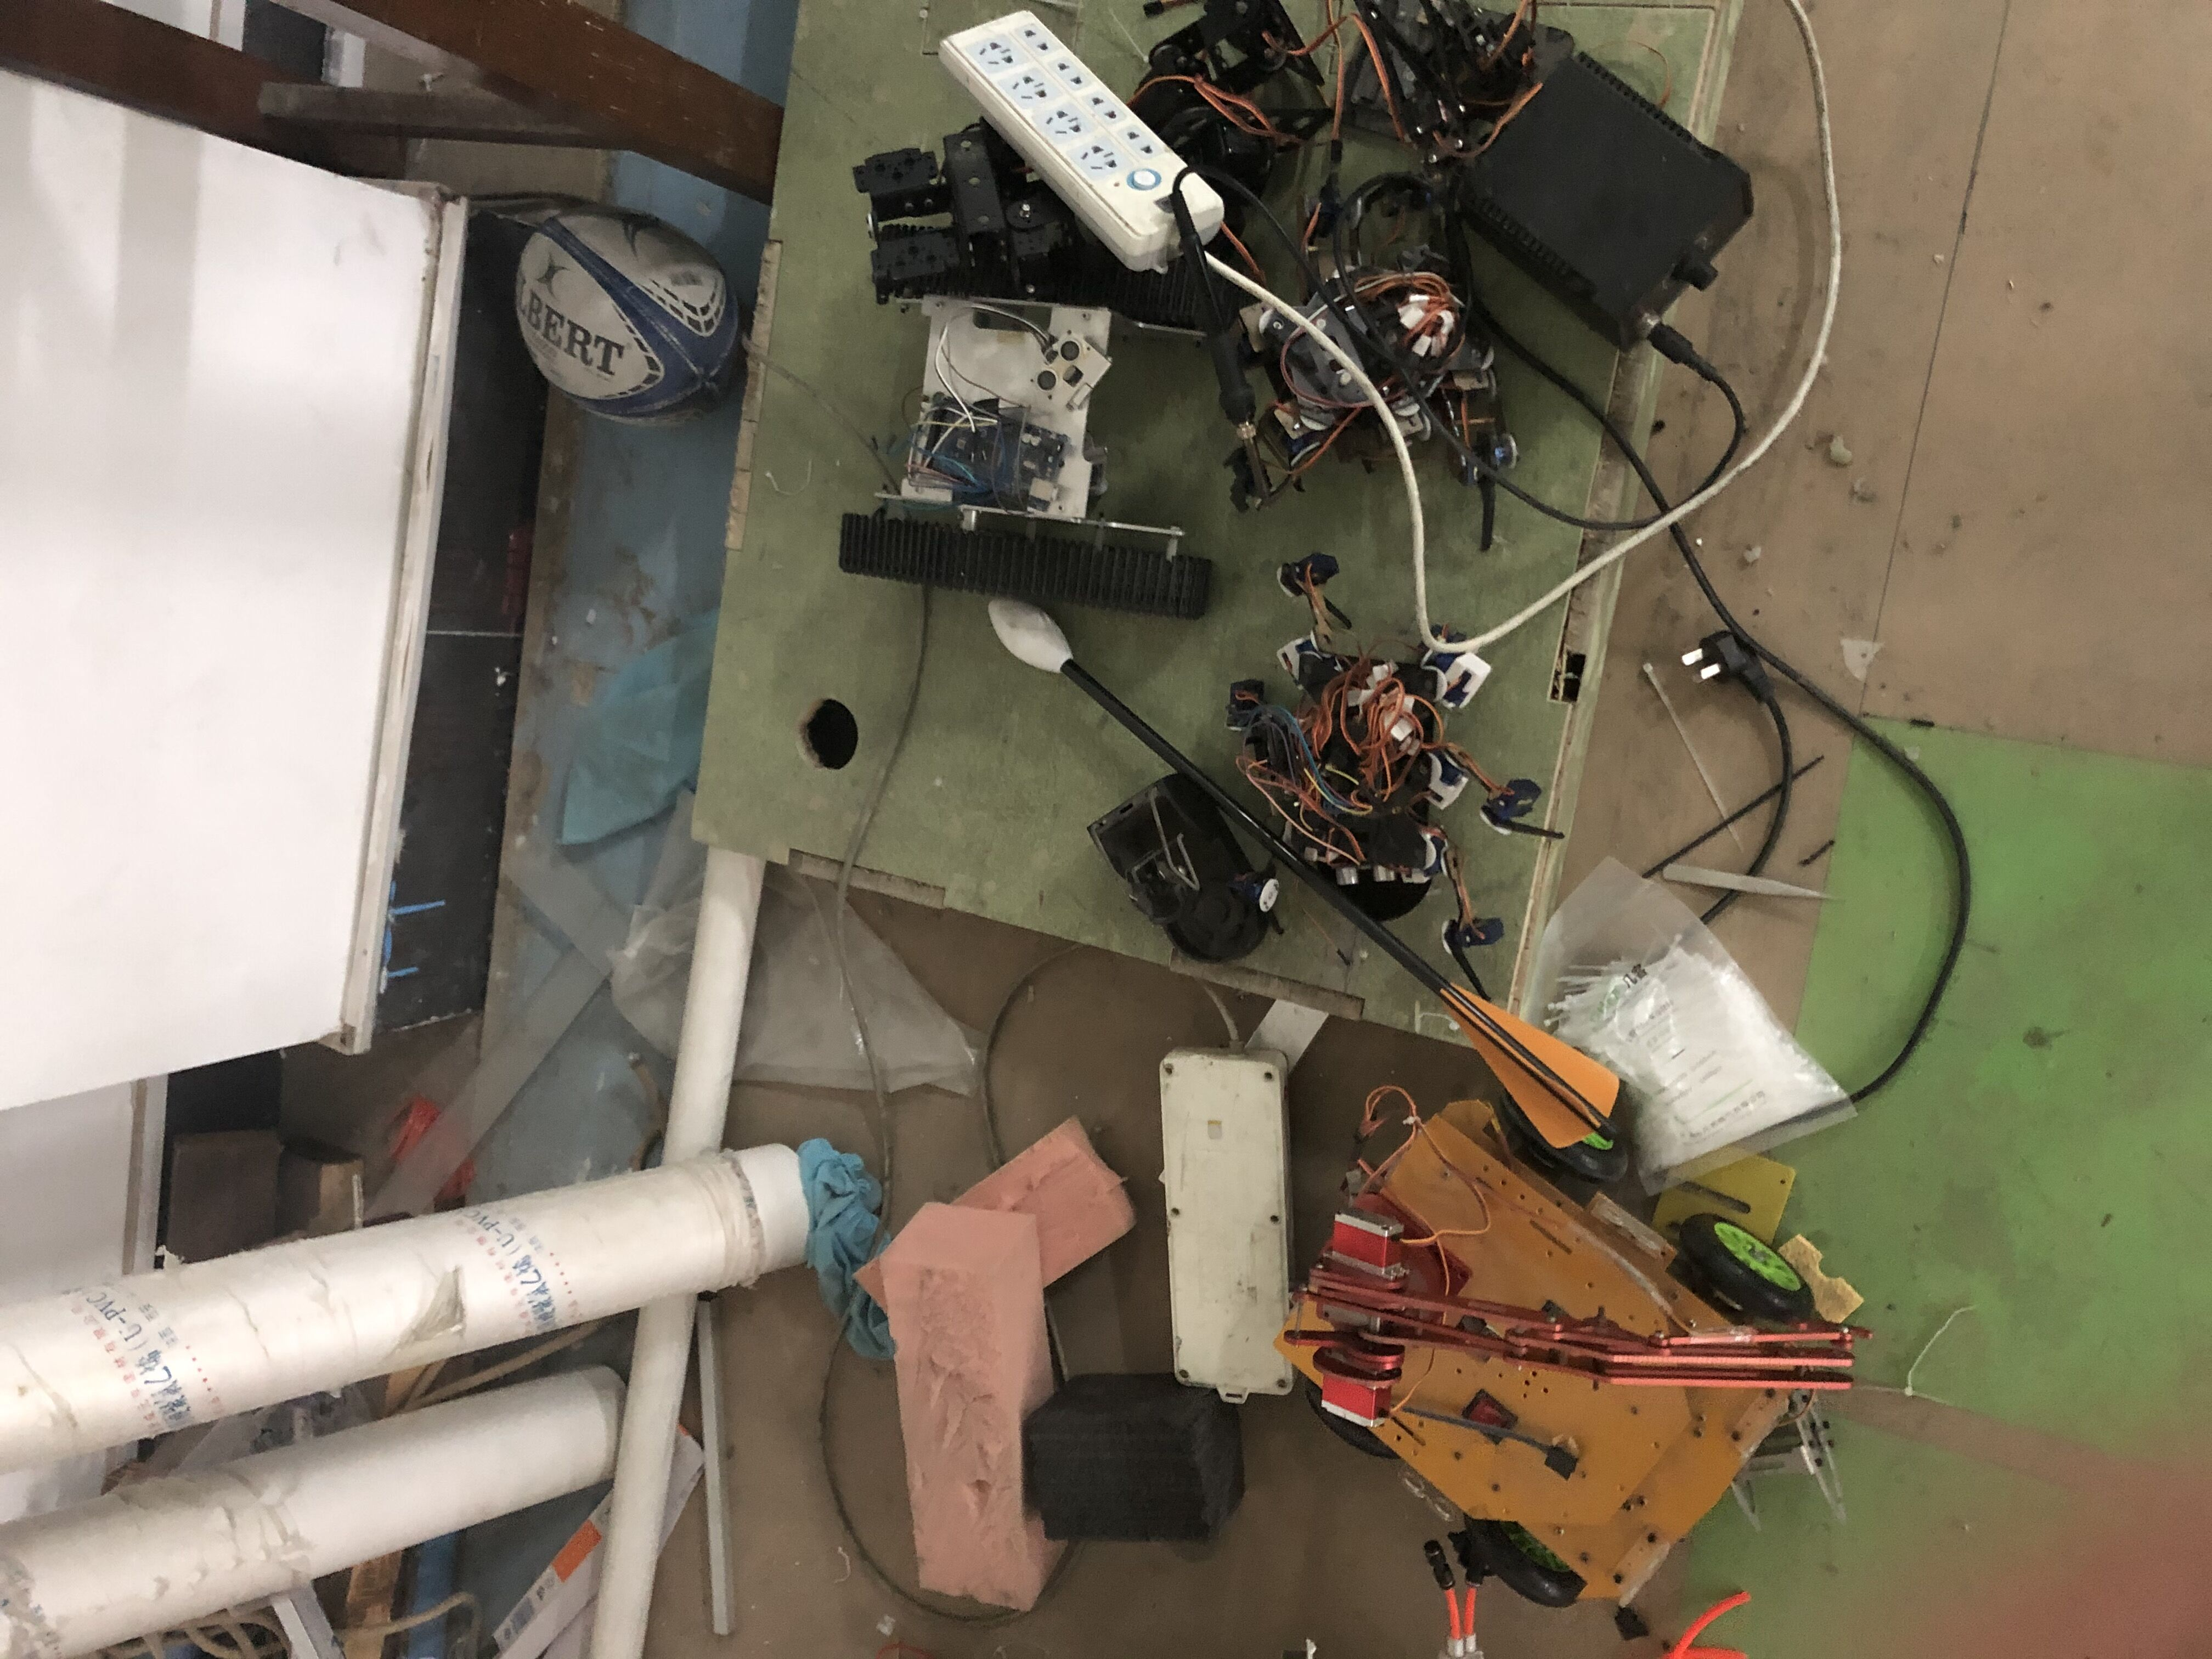arrow: (977, 592, 1632, 1157)
arrowFront: (984, 592, 1071, 678)
